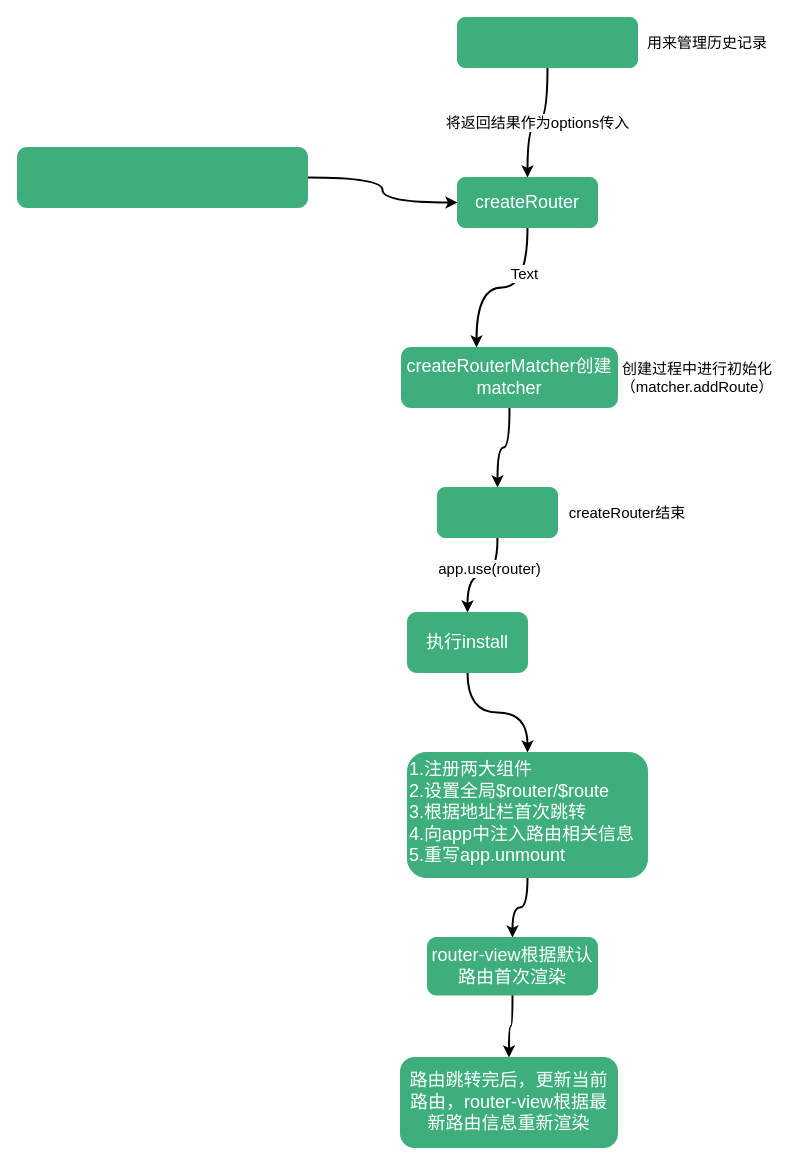
Image size: 795x1165. Some labels were removed from this diagram. The centre of each missing label's shape, as x and y in pixels:
"createWebHistory" belongs at (x=547, y=42).
"return router" belongs at (x=497, y=512).
"地址栏输入对应地址（http://localhost:3002/home/child）" belongs at (x=162, y=177).
